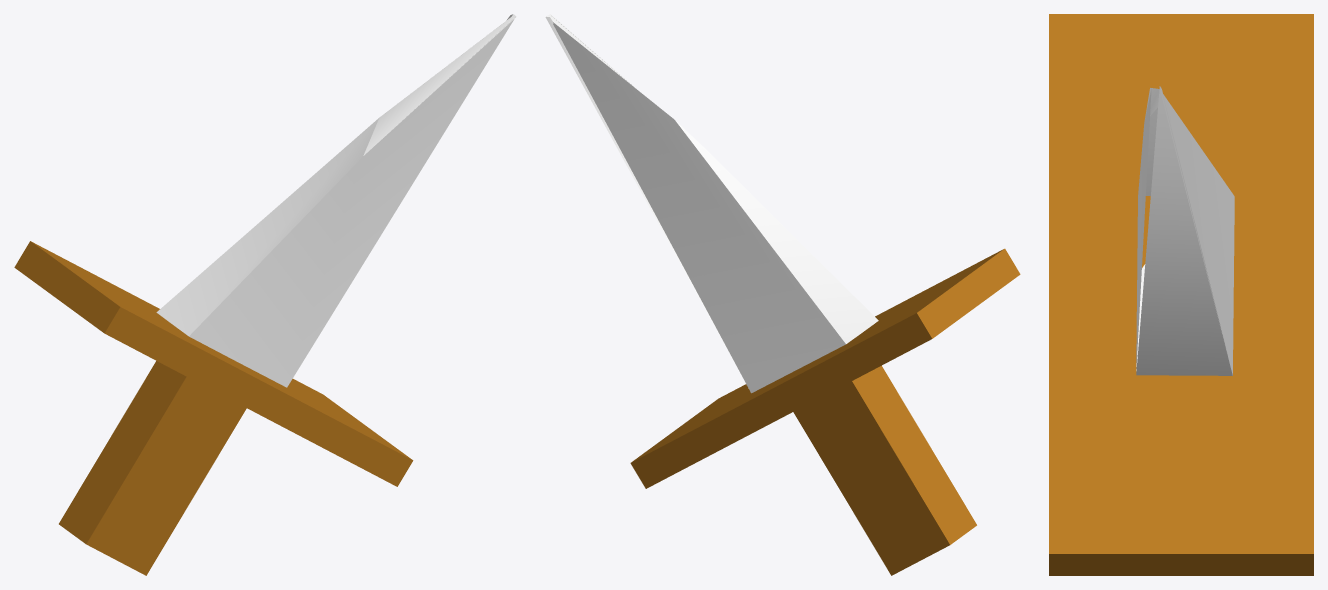
The model's file is Iron Sword.glb.
The picture shows the model from 3 angles, left to right: view 1: azimuth 30°, elevation 25°; view 2: azimuth 150°, elevation 25°; view 3: azimuth 270°, elevation 25°; orthographic projection. The views are drawn at different scales.
Parts seen in each view (by area): view 1: Cube001_1, Cube001; view 2: Cube001_1, Cube001; view 3: Cube001_1, Cube001.
Boxes of the visible parts, bbox=[...] form: Cube001_1: bbox=[14, 241, 413, 575]; Cube001: bbox=[156, 14, 516, 387]; Cube001_1: bbox=[630, 248, 1020, 575]; Cube001: bbox=[545, 14, 878, 393]; Cube001_1: bbox=[1049, 14, 1313, 575]; Cube001: bbox=[1136, 86, 1234, 375].
Size of the model in its own units: 7.39 by 7.35 by 2.58.
